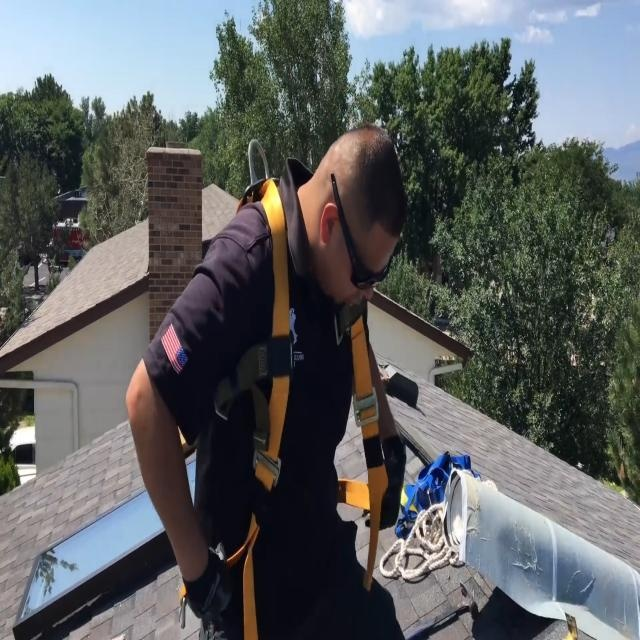Arnes_seguridad: (172, 167, 396, 640)
